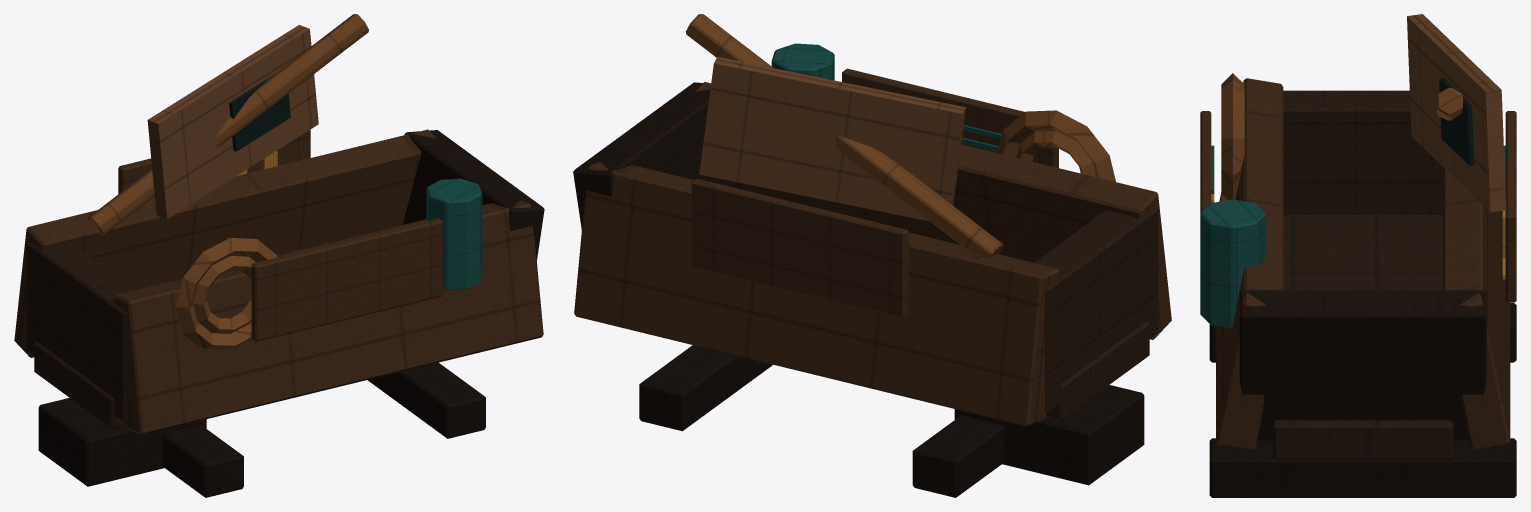
The model's file is covered_wagon.e7.glb.
3 renders of one model, left to right at view 1: azimuth 30°, elevation 25°; view 2: azimuth 150°, elevation 25°; view 3: azimuth 270°, elevation 25°, orthographic. The views are drawn at different scales.
Visible parts, largest first — view 1: CoveredWagonE7; view 2: CoveredWagonE7; view 3: CoveredWagonE7.
Boxes of the visible parts, bbox=[...] form: CoveredWagonE7: bbox=[14, 14, 544, 497]; CoveredWagonE7: bbox=[573, 14, 1171, 497]; CoveredWagonE7: bbox=[1200, 14, 1516, 497].
Size of the model in its own units: 1.7 by 1.31 by 0.9477.
1 material, 1 textured.
